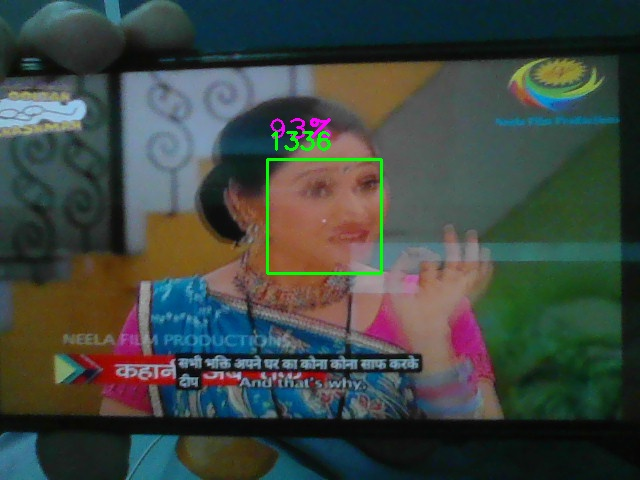fake: (267, 159, 382, 274)
